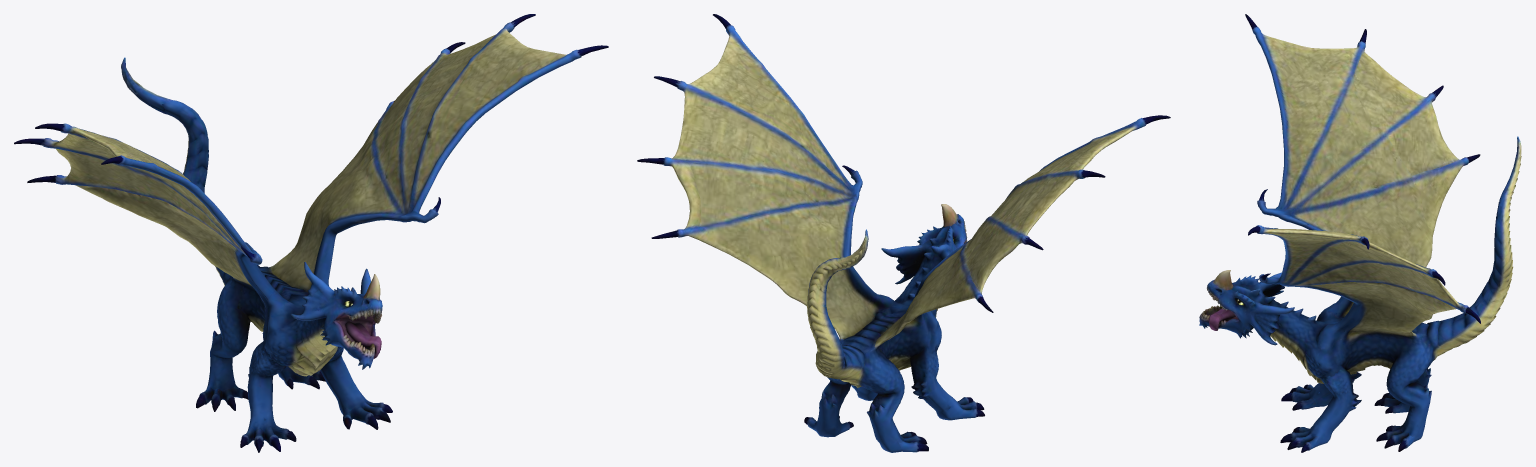
The model's file is MZ4250 - Dragon Blue Wyrmling.glb.
3 renders of one model, left to right at view 1: azimuth 30°, elevation 25°; view 2: azimuth 150°, elevation 25°; view 3: azimuth 270°, elevation 25°, orthographic. The views are drawn at different scales.
Parts seen in each view (by area): view 1: Head Base Sphere.001; view 2: Head Base Sphere.001; view 3: Head Base Sphere.001.
Part boxes in pixels (x1,y1,x2,y2): Head Base Sphere.001: [14, 14, 608, 452]; Head Base Sphere.001: [637, 14, 1170, 452]; Head Base Sphere.001: [1199, 14, 1521, 452].
Bounding box in the file's own units: 1.55 × 1.03 × 0.985.
1 material, 1 textured.
